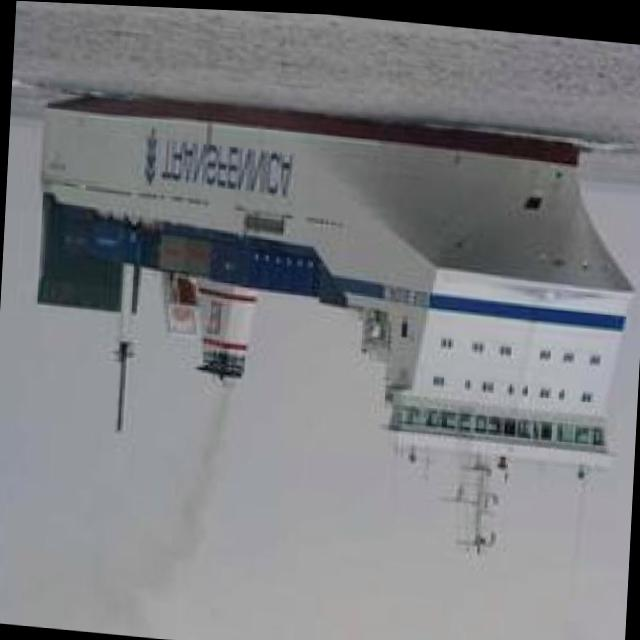ship2: (36, 88, 636, 547)
